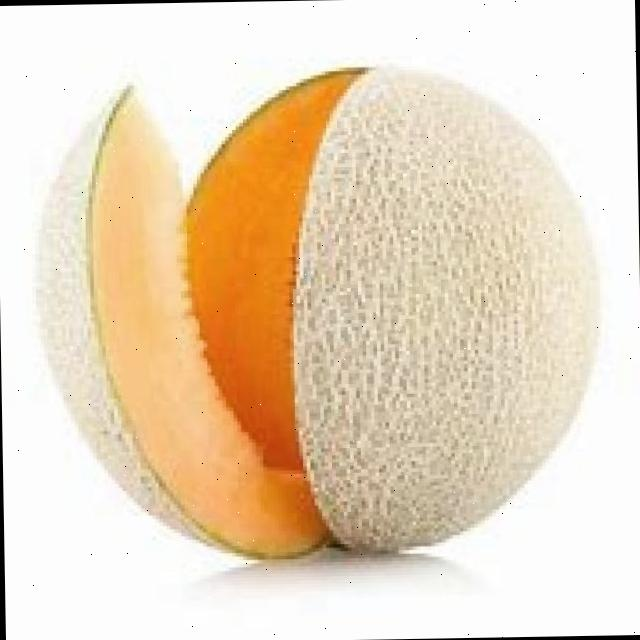Hami Melon: (28, 61, 606, 559)
